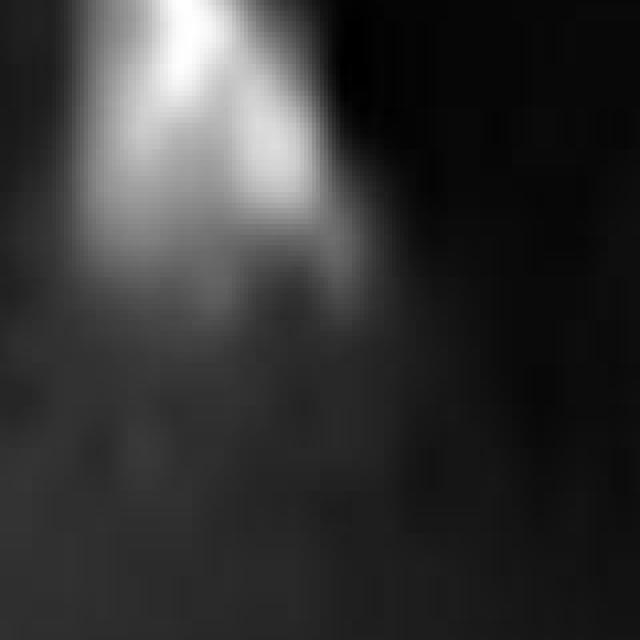person: (69, 1, 337, 353)
